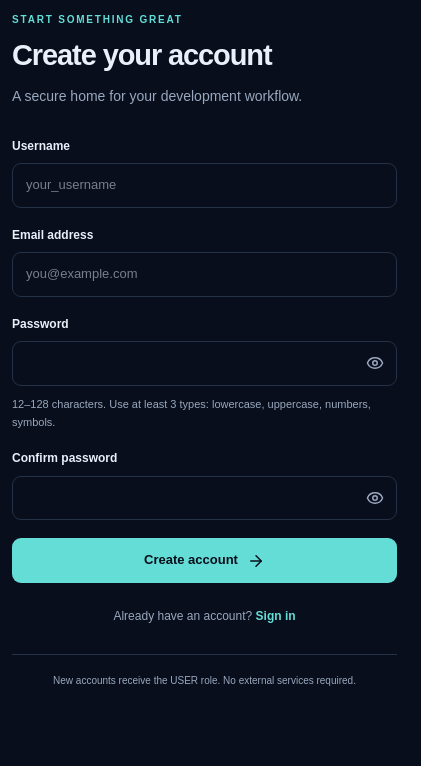
Scenario: keeps registration on the page and shows a duplicate-account error
The width and height of the screenshot is (421, 766).
Type "engineer" into the field labelled "Username" at (204, 186), box [12,163,397,208]
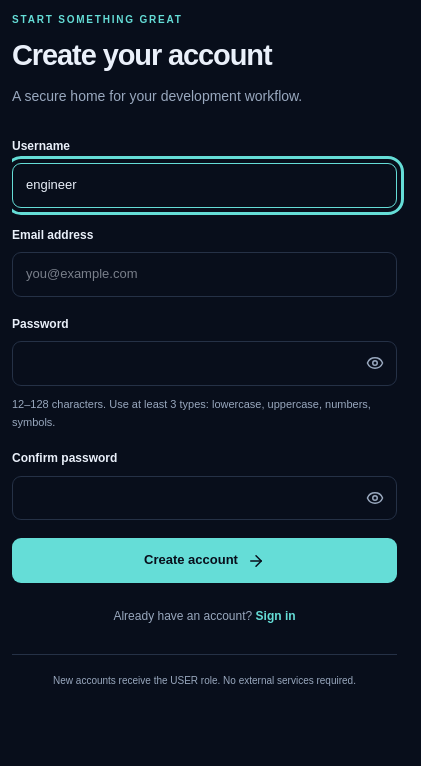
Type "engineer@example.com" into the field labelled "Email address" at (204, 275), box [12,252,397,297]
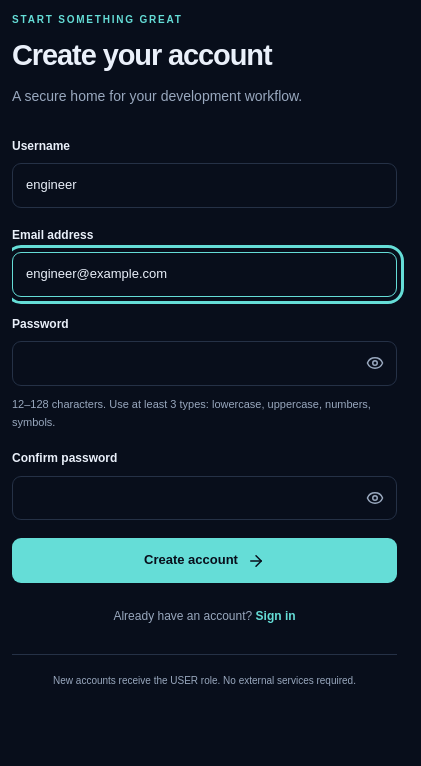
Type "StrongPassword123!" into the password field labelled "Password" at (204, 364), box [12,341,397,386]
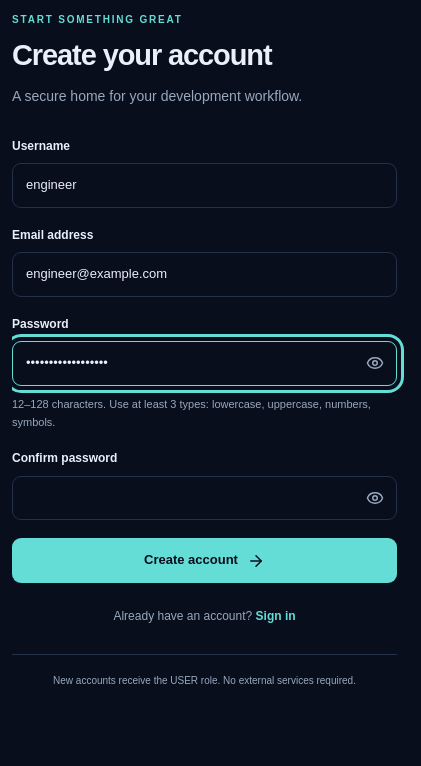
Type "StrongPassword123!" into the password field labelled "Confirm password" at (204, 498), box [12,476,397,520]
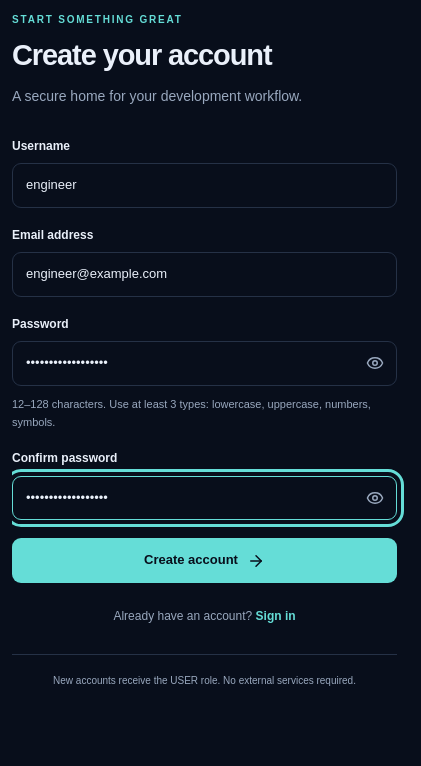
Click the button "Create account" at (204, 561), box [12,538,397,583]
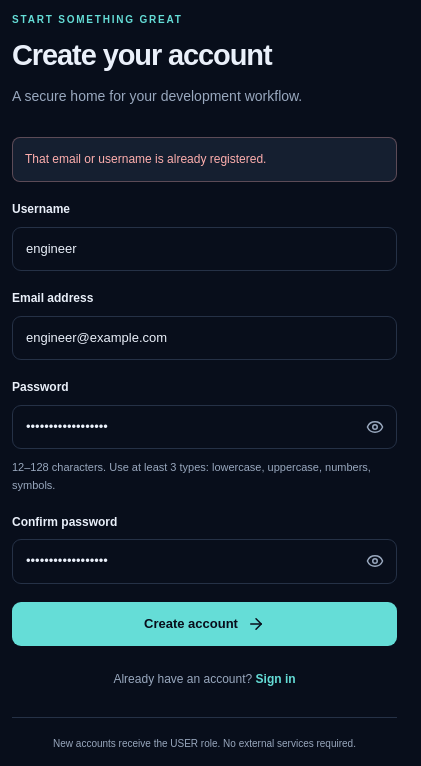
Check: the message shows "already registered", box [25,152,266,166]
